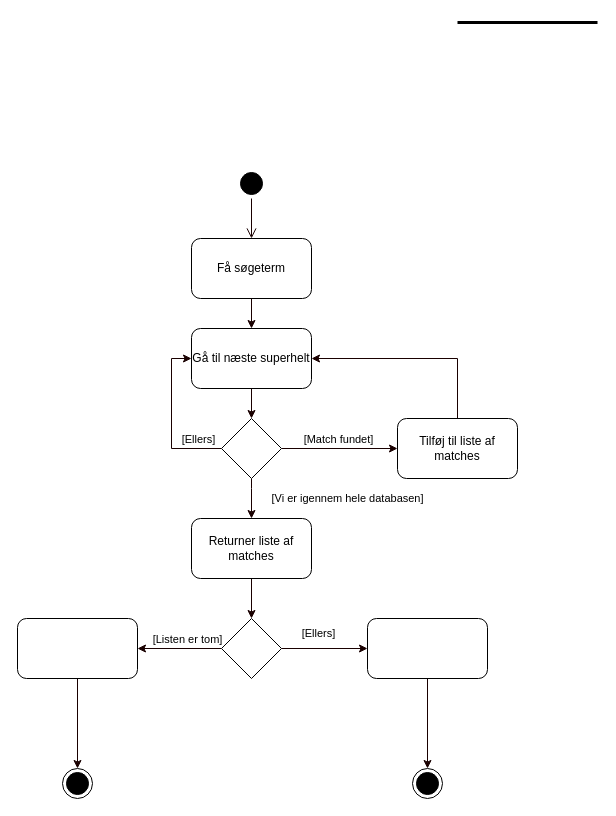
The diagram is 616 pixels wide and 816 high, and some of its shapes have lost their labels. The shapes that lost their labels are listed below. From the top down, each one's centre as x and y in pixels, then its label:
the point at 77,648: Giv brugeren besked om at der ikke var et match
the point at 427,648: Udskriv første element af listen
